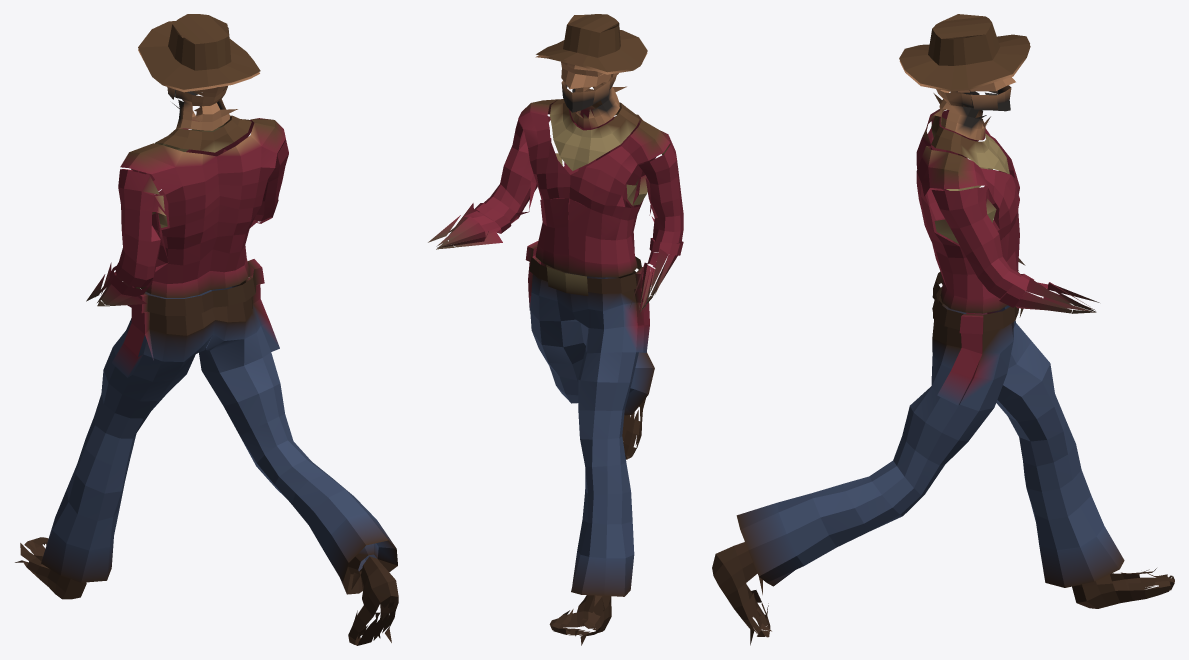
Rendered from man_5_w1.fbx.
The picture shows the model from 3 angles, left to right: view 1: azimuth 30°, elevation 25°; view 2: azimuth 150°, elevation 25°; view 3: azimuth 270°, elevation 25°; orthographic projection. The views are drawn at different scales.
Visible parts, largest first — view 1: cowboy; view 2: cowboy; view 3: cowboy.
Part boxes in pixels (x1,y1,x2,y2): cowboy: (15,14,398,645); cowboy: (428,14,683,645); cowboy: (712,14,1174,645).
Size of the model in its own units: 0.3603 by 0.9727 by 0.6585.
